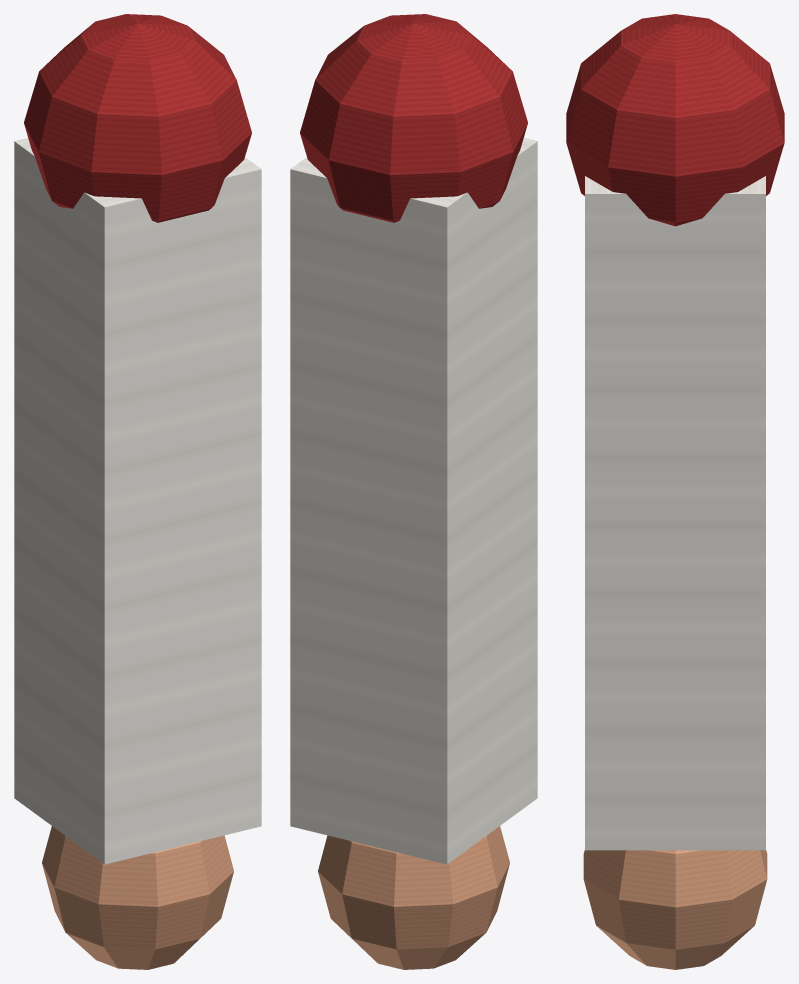
File: caminante_brazo_der.obj
3 views of the same model, side by side, from view 1: azimuth 30°, elevation 25°; view 2: azimuth 150°, elevation 25°; view 3: azimuth 270°, elevation 25° (orthographic).
Parts seen in each view (by area): view 1: caminante_brazo_der; view 2: caminante_brazo_der; view 3: caminante_brazo_der.
Part boxes in pixels (<box>): caminante_brazo_der: <box>14,14,261,969</box>; caminante_brazo_der: <box>290,14,537,969</box>; caminante_brazo_der: <box>566,14,784,969</box>.
Size of the model in its own units: 0.076 by 0.343 by 0.0723.
Materials: 1 (1 with a texture image).
